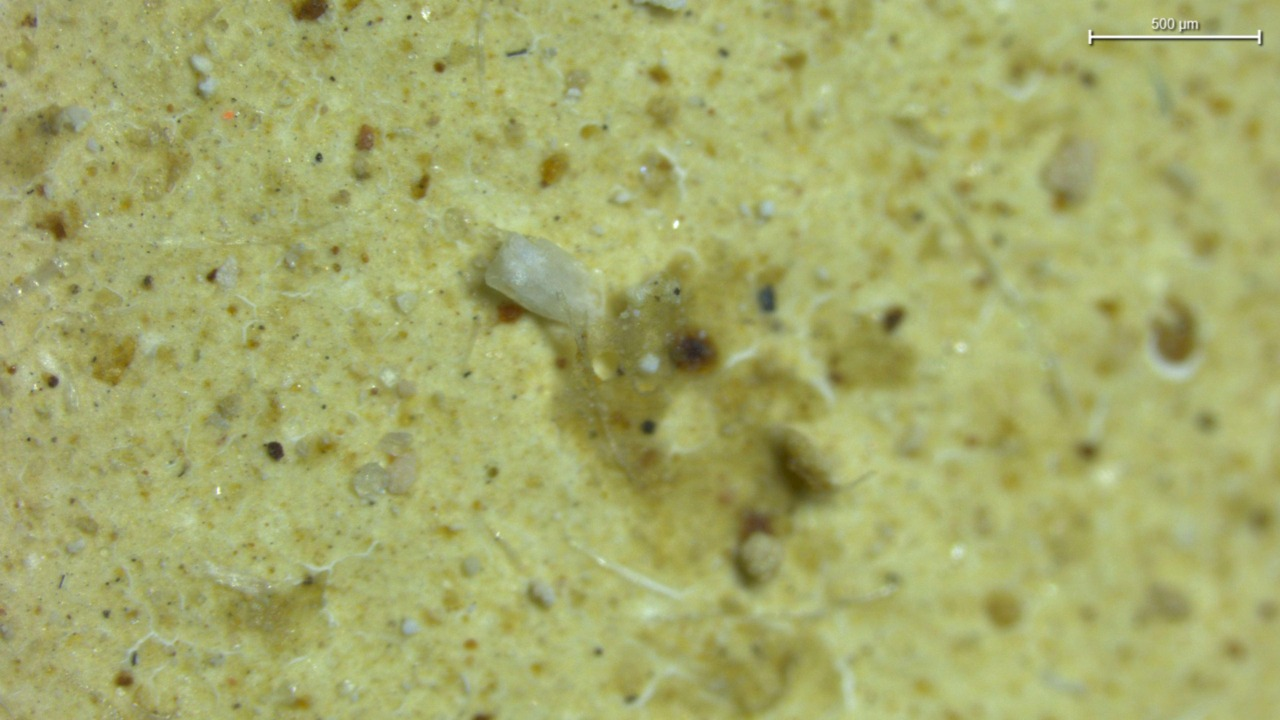microplastic_fragment: (489, 232, 606, 330)
